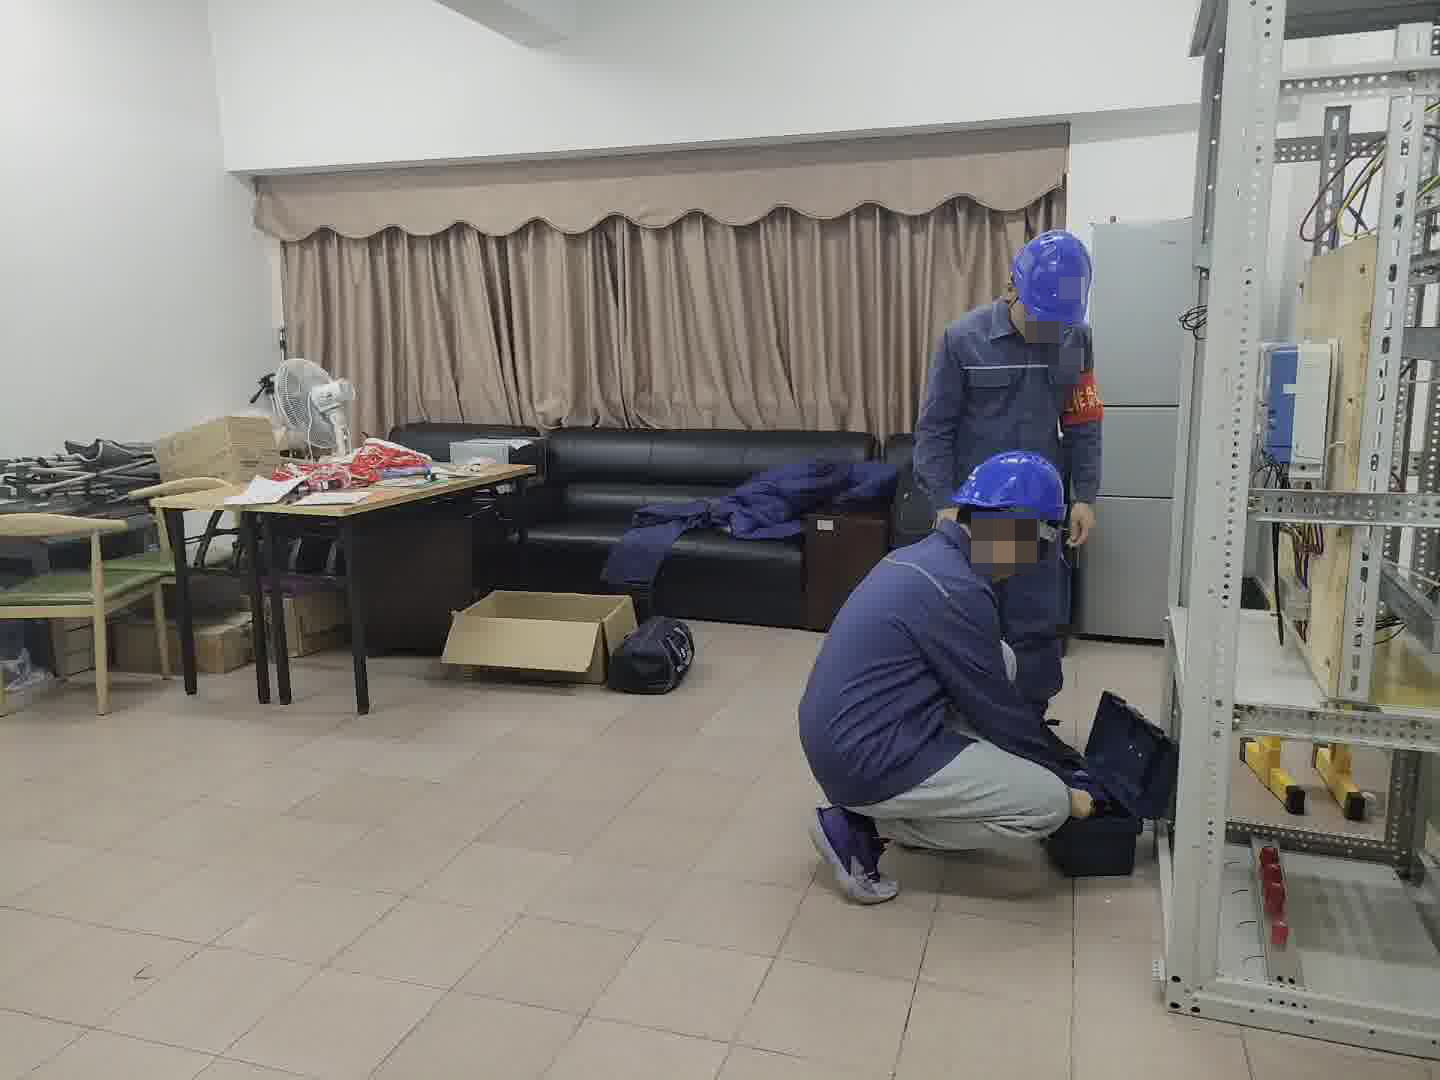badge: (1059, 367, 1104, 425)
downcloth: (855, 739, 1070, 859)
downsuit: (1001, 515, 1081, 702)
fhalt: (942, 451, 1067, 580)
halt: (1010, 230, 1094, 348)
hand: (1066, 501, 1099, 548), (1068, 781, 1094, 820)
noear: (988, 520, 1043, 580)
person: (791, 451, 1150, 906), (910, 229, 1106, 772)
upsuit: (792, 517, 1089, 810), (907, 304, 1102, 498)
